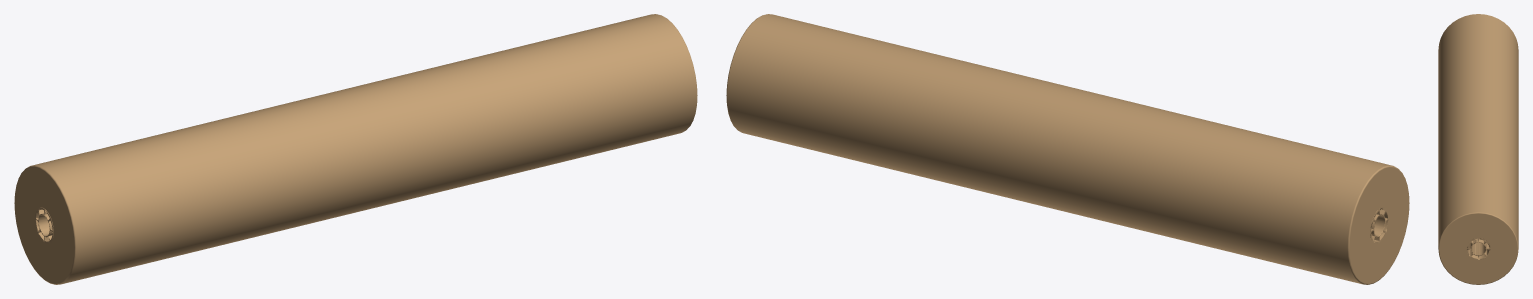
File: paper_roll_a01.glb
3 renders of one model, left to right at view 1: azimuth 30°, elevation 25°; view 2: azimuth 150°, elevation 25°; view 3: azimuth 270°, elevation 25°, orthographic. The views are drawn at different scales.
Size of the model in its own units: 0.875 by 0.1489 by 0.1489.
